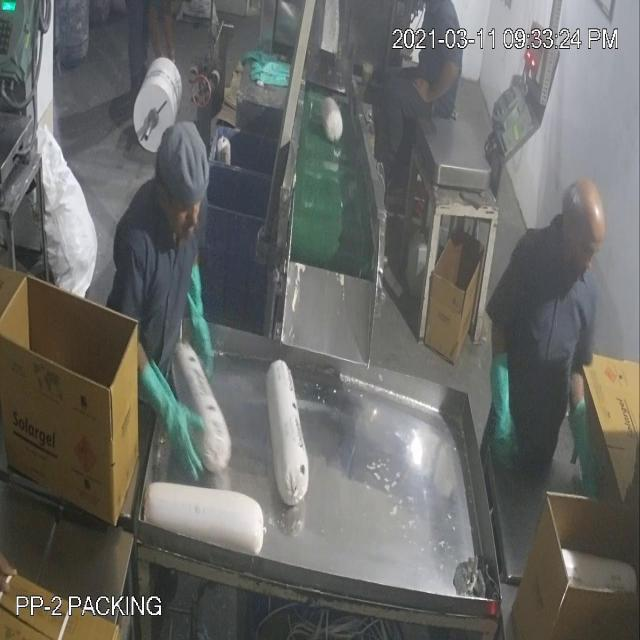Gloves: (14, 35, 504, 414)
